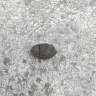Dog: (31, 43, 57, 59)
